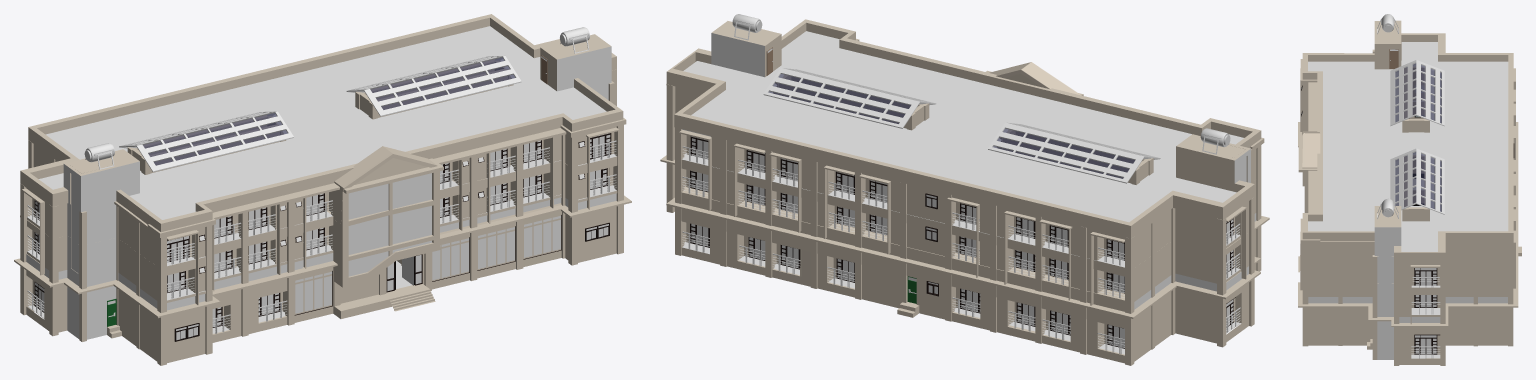
The model's file is AR Building_L0.fbx.
3 views of the same model, side by side, from view 1: azimuth 30°, elevation 25°; view 2: azimuth 150°, elevation 25°; view 3: azimuth 270°, elevation 25° (orthographic). The views are drawn at different scales.
Visible parts, largest first — view 1: Stairs Side Left; view 2: Stairs Side Left; view 3: Stairs Side Left.
Part boxes in pixels (<box>): Stairs Side Left: <box>14,14,631,365</box>; Stairs Side Left: <box>660,14,1269,365</box>; Stairs Side Left: <box>1298,14,1521,365</box>.
Bounding box in the file's own units: 5622 × 1709 × 2384.
